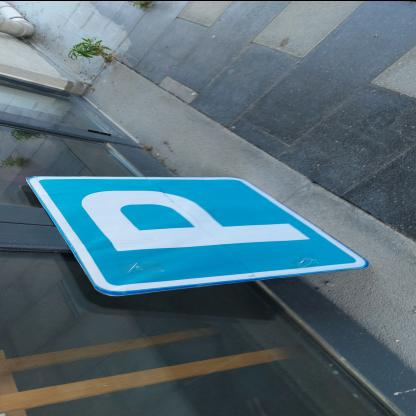Parking-Sign: (23, 176, 380, 300)
